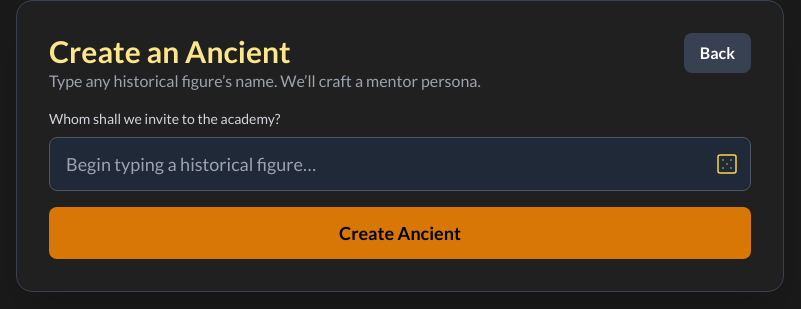
Test: CharacterCreator › filters suggestions based on user input
In the field with placeholder "Begin typing a historical figure…": [400, 164] box [49,137,751,191], type "Alex"
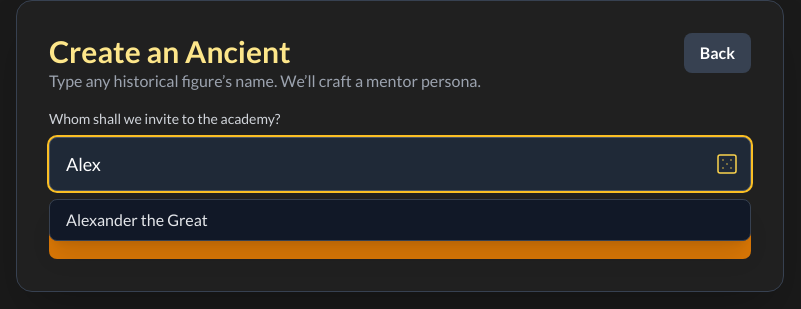
Result: the button "Alexander the Great" is shown at [50,200,750,240]
